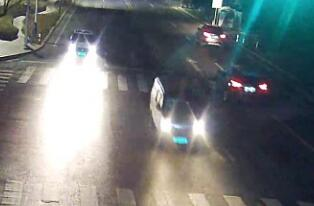car: (148, 72, 213, 152), (206, 61, 271, 101), (67, 26, 98, 64), (192, 20, 229, 48)
